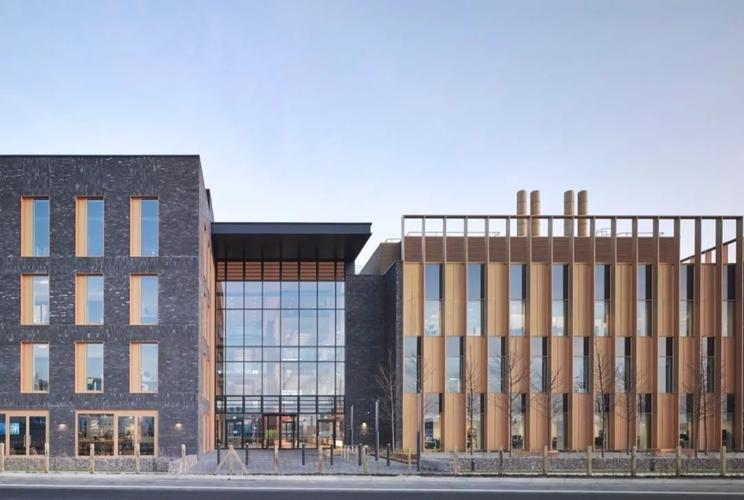buildings: (323, 204, 736, 455), (5, 179, 228, 471), (182, 219, 387, 460)
